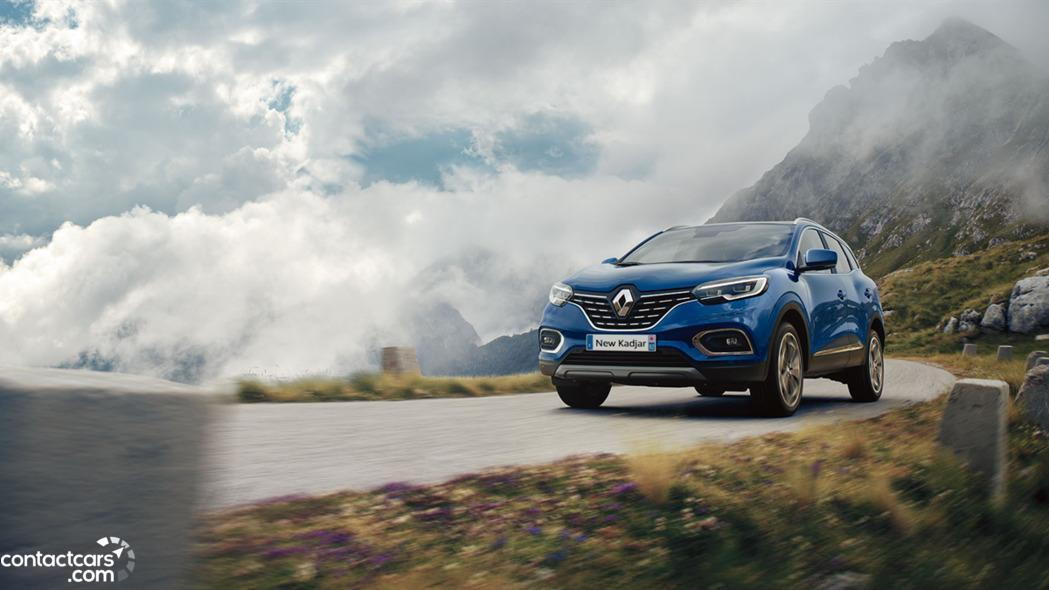Renault: (605, 285, 640, 327)
